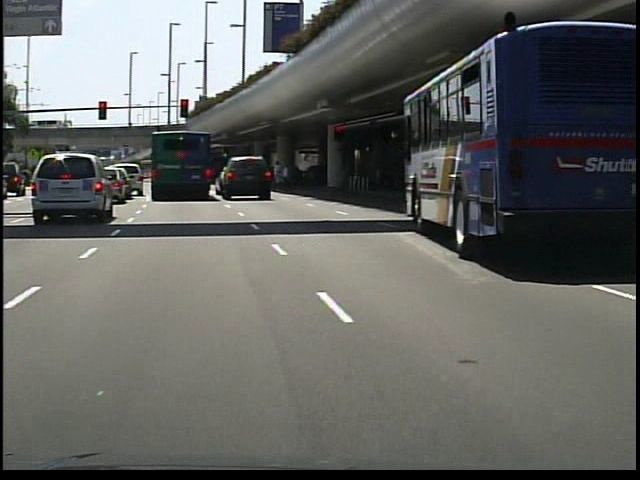person: (274, 157, 294, 194)
